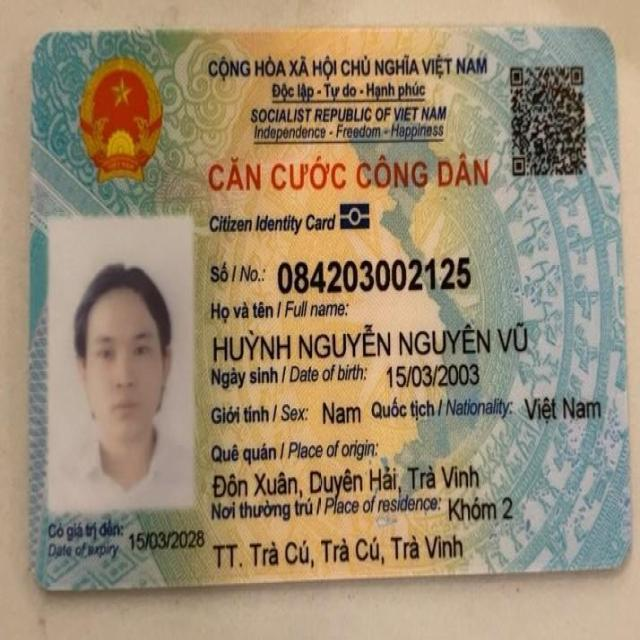current_place: (211, 531, 466, 574), (448, 492, 517, 522)
dob: (381, 356, 480, 390)
expire_date: (125, 525, 205, 554)
gender: (319, 392, 364, 427)
id: (273, 249, 473, 297)
name: (209, 318, 530, 360)
nationality: (520, 388, 603, 425)
origin_place: (204, 462, 492, 497)
